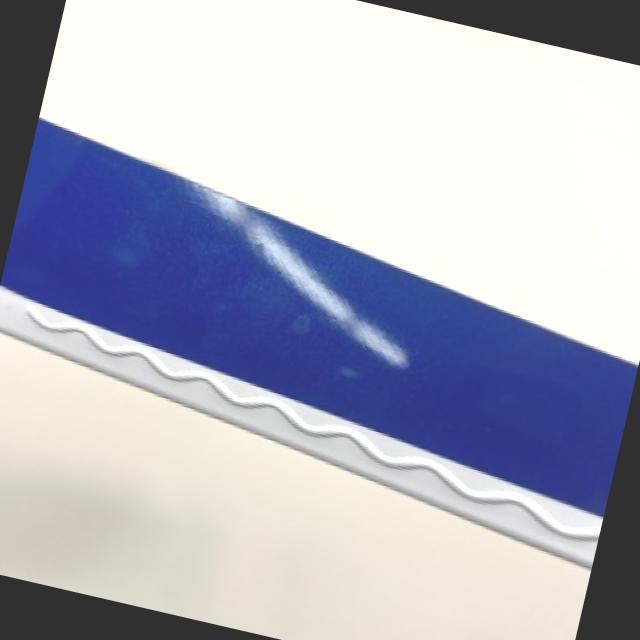healthy: (0, 117, 636, 564)
